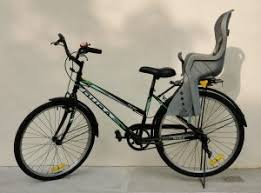bicycle: (9, 28, 249, 186)
